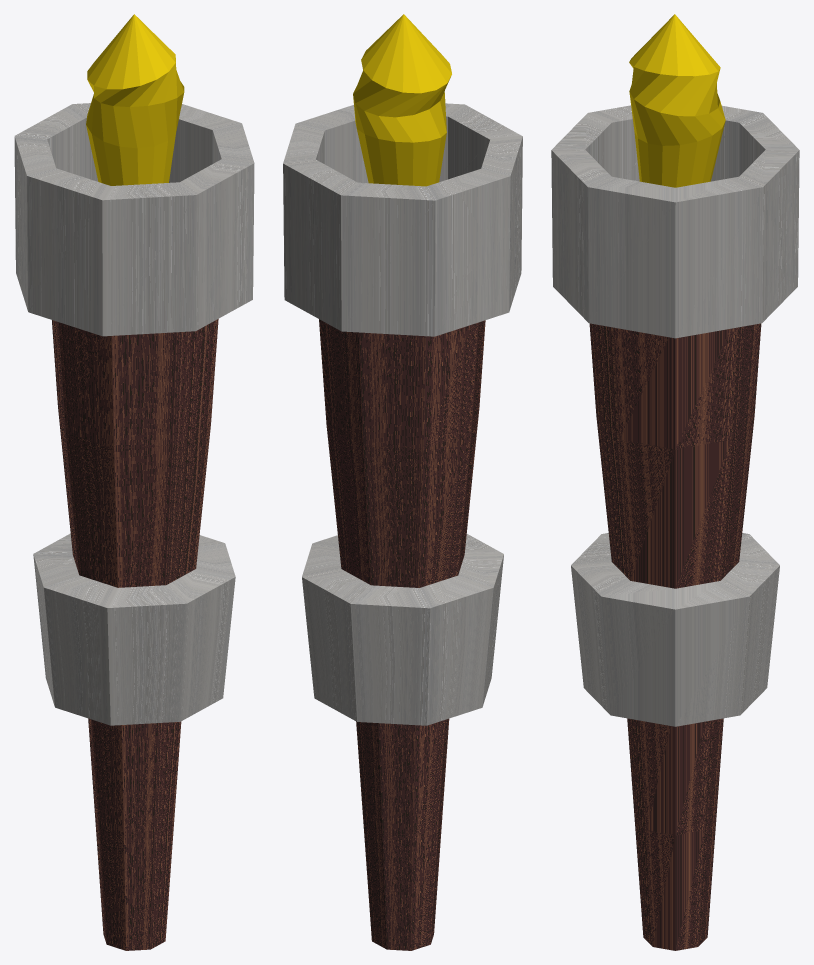
File: torch.glb
The picture shows the model from 3 angles, left to right: view 1: azimuth 30°, elevation 25°; view 2: azimuth 150°, elevation 25°; view 3: azimuth 270°, elevation 25°; orthographic projection.
Visible parts, largest first — view 1: zelazo, pochodnia, ogein; view 2: zelazo, pochodnia, ogein; view 3: zelazo, pochodnia, ogein.
Part boxes in pixels (bbox=[...]): zelazo: bbox=[14, 103, 254, 725]; pochodnia: bbox=[52, 319, 218, 950]; ogein: bbox=[86, 14, 184, 185]; zelazo: bbox=[283, 103, 522, 725]; pochodnia: bbox=[319, 319, 485, 950]; ogein: bbox=[353, 14, 451, 186]; zelazo: bbox=[551, 105, 799, 726]; pochodnia: bbox=[589, 323, 761, 950]; ogein: bbox=[629, 14, 725, 187].
Size of the model in its own units: 1.84 by 7.55 by 1.84.
Materials: 3 (2 with a texture image).
